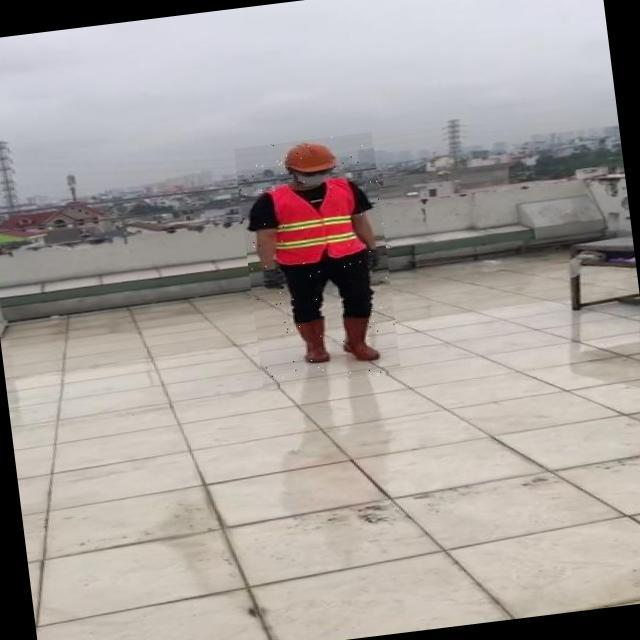Gloves: (258, 269, 289, 295), (360, 252, 386, 277)
Helmet: (274, 139, 343, 183)
Human: (234, 132, 401, 389)
Safety Boot: (338, 313, 383, 366), (292, 318, 336, 369)
Safety Vest: (263, 180, 370, 269)
